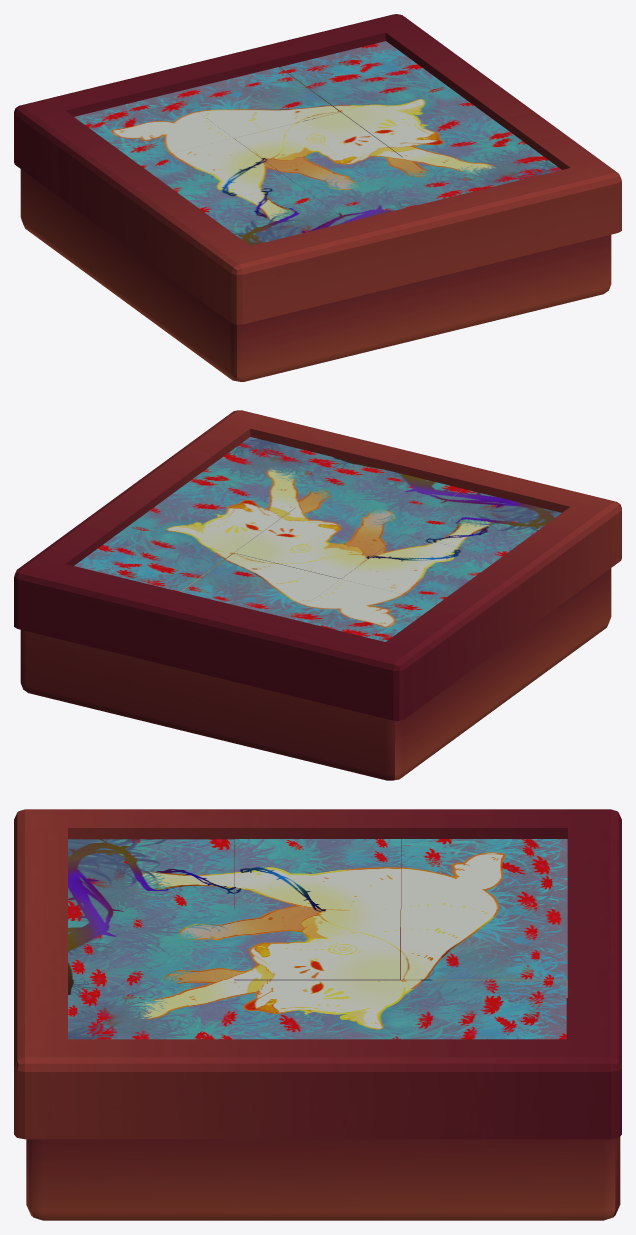
File: SM_Fishingbox.fbx
3 views of the same model, one above another, from view 1: azimuth 30°, elevation 25°; view 2: azimuth 150°, elevation 25°; view 3: azimuth 270°, elevation 25° (orthographic). The views are drawn at different scales.
Parts seen in each view (by area): view 1: SM_FishingBox_Up, SM_Fishingbox_bottom, SM_FishingBox_Cube7, SM_FishingBox_Cube5, SM_FishingBox_Cube1, SM_FishingBox_Cube8, SM_FishingBox_Cube9, SM_FishingBox_Cube4, SM_FishingBox_Cube6, SM_FishingBox_Cube2, SM_FishingBox_Cube3; view 2: SM_FishingBox_Up, SM_Fishingbox_bottom, SM_FishingBox_Cube1, SM_FishingBox_Cube8, SM_FishingBox_Cube6, SM_FishingBox_Cube2, SM_FishingBox_Cube3, SM_FishingBox_Cube9, SM_FishingBox_Cube5, SM_FishingBox_Cube7, SM_FishingBox_Cube4; view 3: SM_FishingBox_Up, SM_Fishingbox_bottom, SM_FishingBox_Cube7, SM_FishingBox_Cube1, SM_FishingBox_Cube9, SM_FishingBox_Cube4, SM_FishingBox_Cube6, SM_FishingBox_Cube3, SM_FishingBox_Cube8, SM_FishingBox_Cube5, SM_FishingBox_Cube2.
Part boxes in pixels (left/top/right/bottom): SM_FishingBox_Up: left=14, top=14, right=621, bottom=324; SM_Fishingbox_bottom: left=20, top=169, right=611, bottom=381; SM_FishingBox_Cube7: left=172, top=67, right=339, bottom=138; SM_FishingBox_Cube5: left=280, top=41, right=447, bottom=112; SM_FishingBox_Cube1: left=234, top=112, right=401, bottom=183; SM_FishingBox_Cube8: left=341, top=86, right=508, bottom=157; SM_FishingBox_Cube9: left=136, top=138, right=294, bottom=207; SM_FishingBox_Cube4: left=74, top=93, right=232, bottom=161; SM_FishingBox_Cube6: left=296, top=157, right=454, bottom=221; SM_FishingBox_Cube2: left=403, top=131, right=561, bottom=195; SM_FishingBox_Cube3: left=198, top=183, right=347, bottom=245; SM_FishingBox_Up: left=14, top=410, right=621, bottom=720; SM_Fishingbox_bottom: left=20, top=568, right=611, bottom=780; SM_FishingBox_Cube1: left=234, top=508, right=402, bottom=578; SM_FishingBox_Cube8: left=128, top=482, right=294, bottom=552; SM_FishingBox_Cube6: left=295, top=463, right=462, bottom=533; SM_FishingBox_Cube2: left=189, top=437, right=356, bottom=507; SM_FishingBox_Cube3: left=402, top=489, right=561, bottom=557; SM_FishingBox_Cube9: left=341, top=534, right=499, bottom=602; SM_FishingBox_Cube5: left=74, top=527, right=233, bottom=591; SM_FishingBox_Cube7: left=181, top=553, right=340, bottom=617; SM_FishingBox_Cube4: left=288, top=579, right=438, bottom=641; SM_FishingBox_Up: left=14, top=809, right=621, bottom=1139; SM_Fishingbox_bottom: left=26, top=1137, right=620, bottom=1220; SM_FishingBox_Cube7: left=401, top=909, right=567, bottom=997; SM_FishingBox_Cube1: left=233, top=909, right=400, bottom=980; SM_FishingBox_Cube9: left=234, top=839, right=400, bottom=927; SM_FishingBox_Cube4: left=401, top=839, right=567, bottom=909; SM_FishingBox_Cube6: left=68, top=909, right=233, bottom=980; SM_FishingBox_Cube3: left=68, top=839, right=233, bottom=909; SM_FishingBox_Cube8: left=233, top=980, right=400, bottom=1039; SM_FishingBox_Cube5: left=400, top=980, right=566, bottom=1039; SM_FishingBox_Cube2: left=68, top=980, right=234, bottom=1039.
Size of the model in its own units: 28.72 by 8.76 by 28.72.
Materials: 2 (2 with a texture image).
